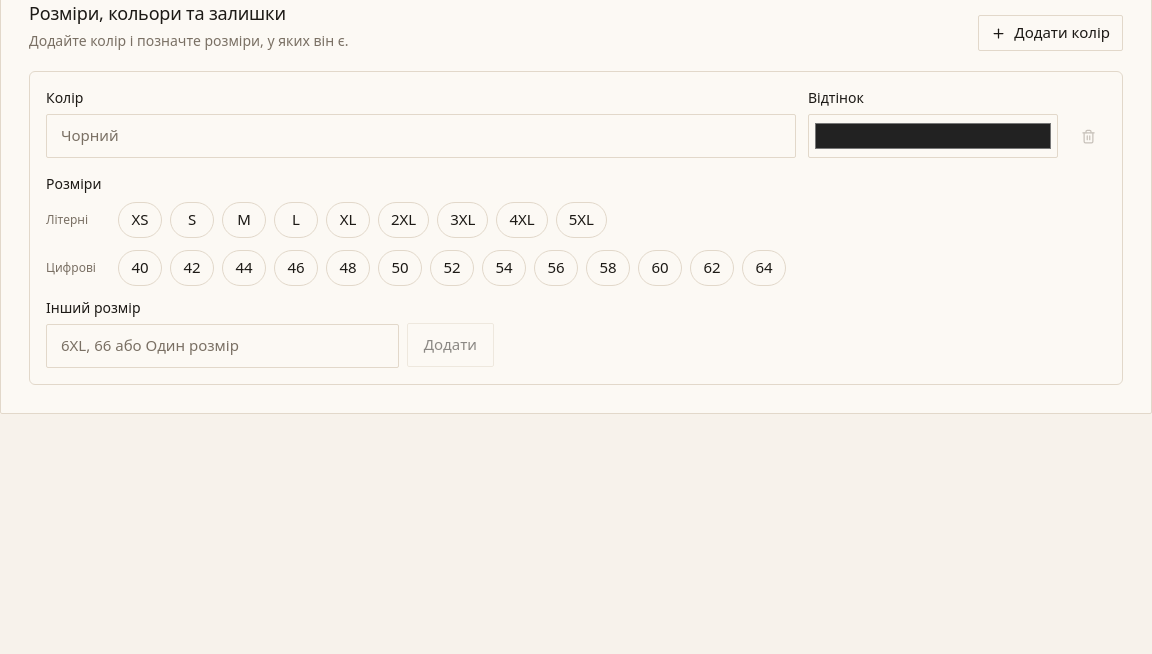
Test: ProductVariantsSection › keeps the sizes of each colour separate
What coordinates should you click on to do the following:
click the button "Додати колір"
I would click on:
 (1051, 33)
Its box is x1=978 y1=15 x2=1123 y2=51.
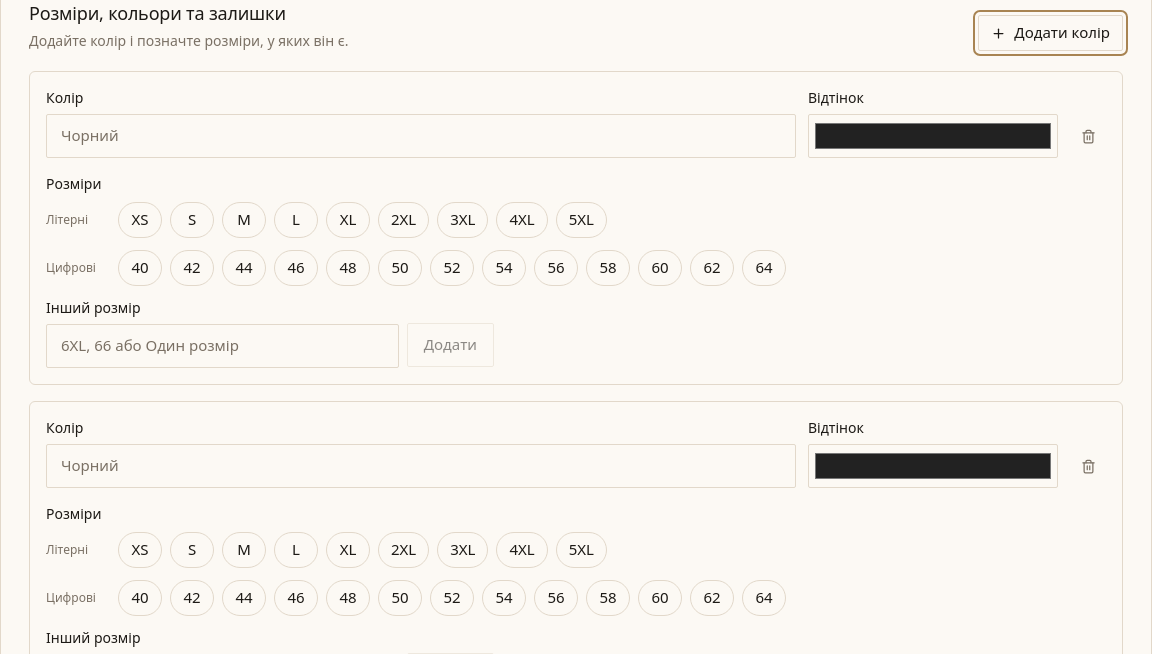
What coordinates should you click on to do the following:
click the 2nd button "XL"
I would click on:
 (348, 550)
Its box is x1=326 y1=532 x2=370 y2=568.
(page scrolled)
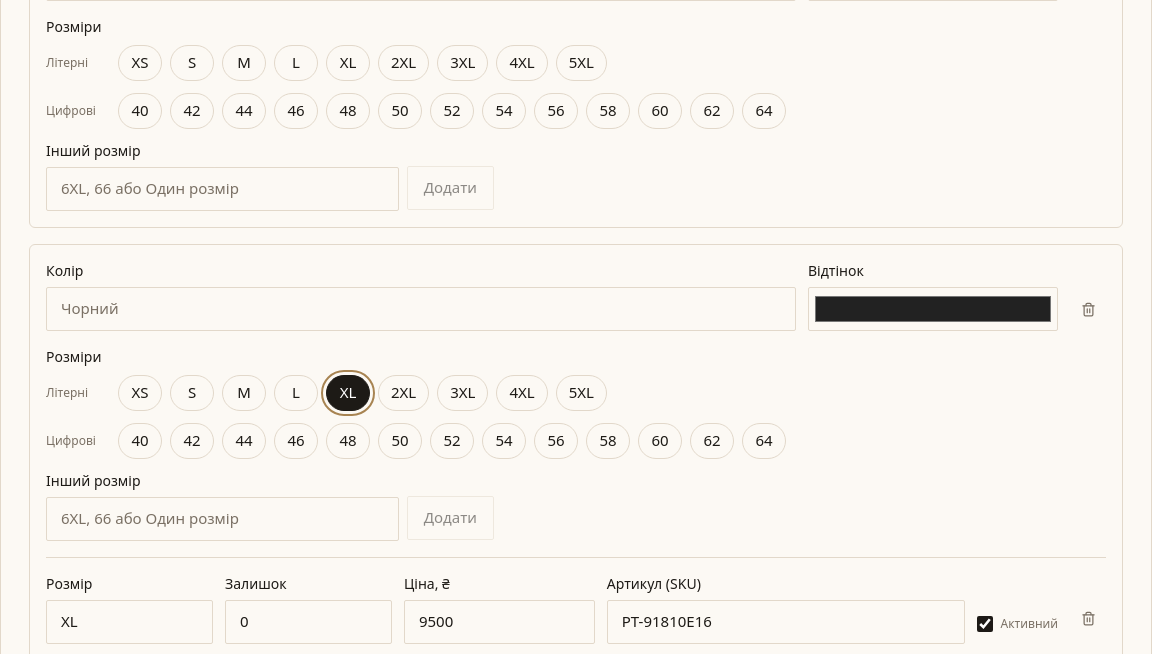
Expected: the field labelled "Розмір" holds "XL", x1=46 y1=600 x2=213 y2=644
